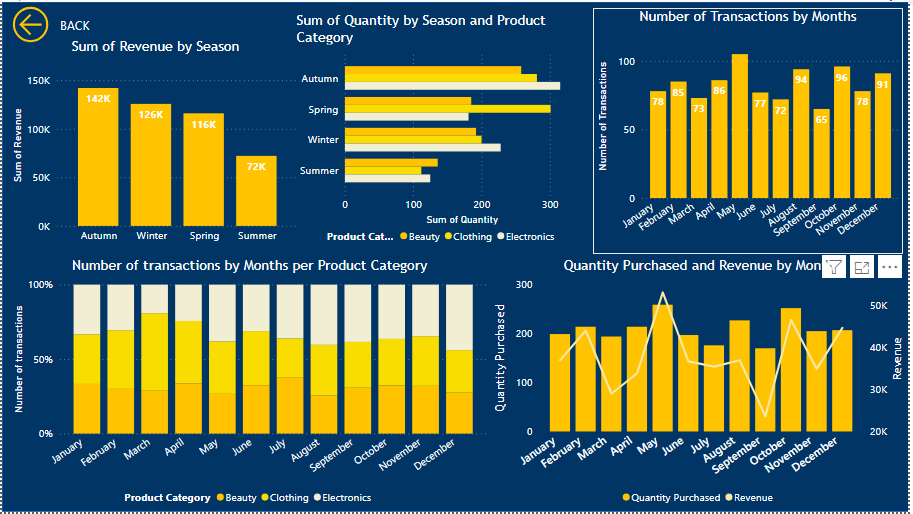

The dashboard page shown, as its layout file describes it:
{"tool":"powerbi","page":{"name":"Months_analysis","canvas":[1280,720],"ordinal":2},"visuals":[{"type":"shape","box":[0,0,1280,719.7],"z":0},{"type":"clusteredColumnChart","fields":{"Y":["Count(retail.Transaction ID)"],"Category":["retail.Month"]},"box":[379.1,0,661,360.7],"z":1000},{"type":"hundredPercentStackedColumnChart","fields":{"Category":["retail.Month"],"Y":["CountNonNull(retail.Transaction ID)"],"Series":["retail.Product Category"]},"box":[10.1,360.7,679.4,359],"z":2000},{"type":"lineClusteredColumnComboChart","fields":{"Category":["retail.Month"],"Y":["Sum(retail.Quantity)"],"Y2":["Sum(retail.Total Amount)"]},"box":[689.5,360.7,590.5,359],"z":3000},{"type":"actionButton","box":[8.4,0,119.1,63.7],"z":4000}]}

Visuals, with their boxes in screenshot pixels (x1, y1, x2, y2), scaled from the page's 1280x720 canvas onto the 913x514 screenshot:
shape: bbox(0, 0, 912, 513)
clusteredColumnChart - Count(retail.Transaction ID) x retail.Month: bbox(270, 0, 742, 257)
hundredPercentStackedColumnChart - retail.Month x CountNonNull(retail.Transaction ID): bbox(7, 257, 492, 513)
lineClusteredColumnComboChart - retail.Month x Sum(retail.Quantity): bbox(492, 257, 912, 513)
actionButton: bbox(6, 0, 91, 45)
